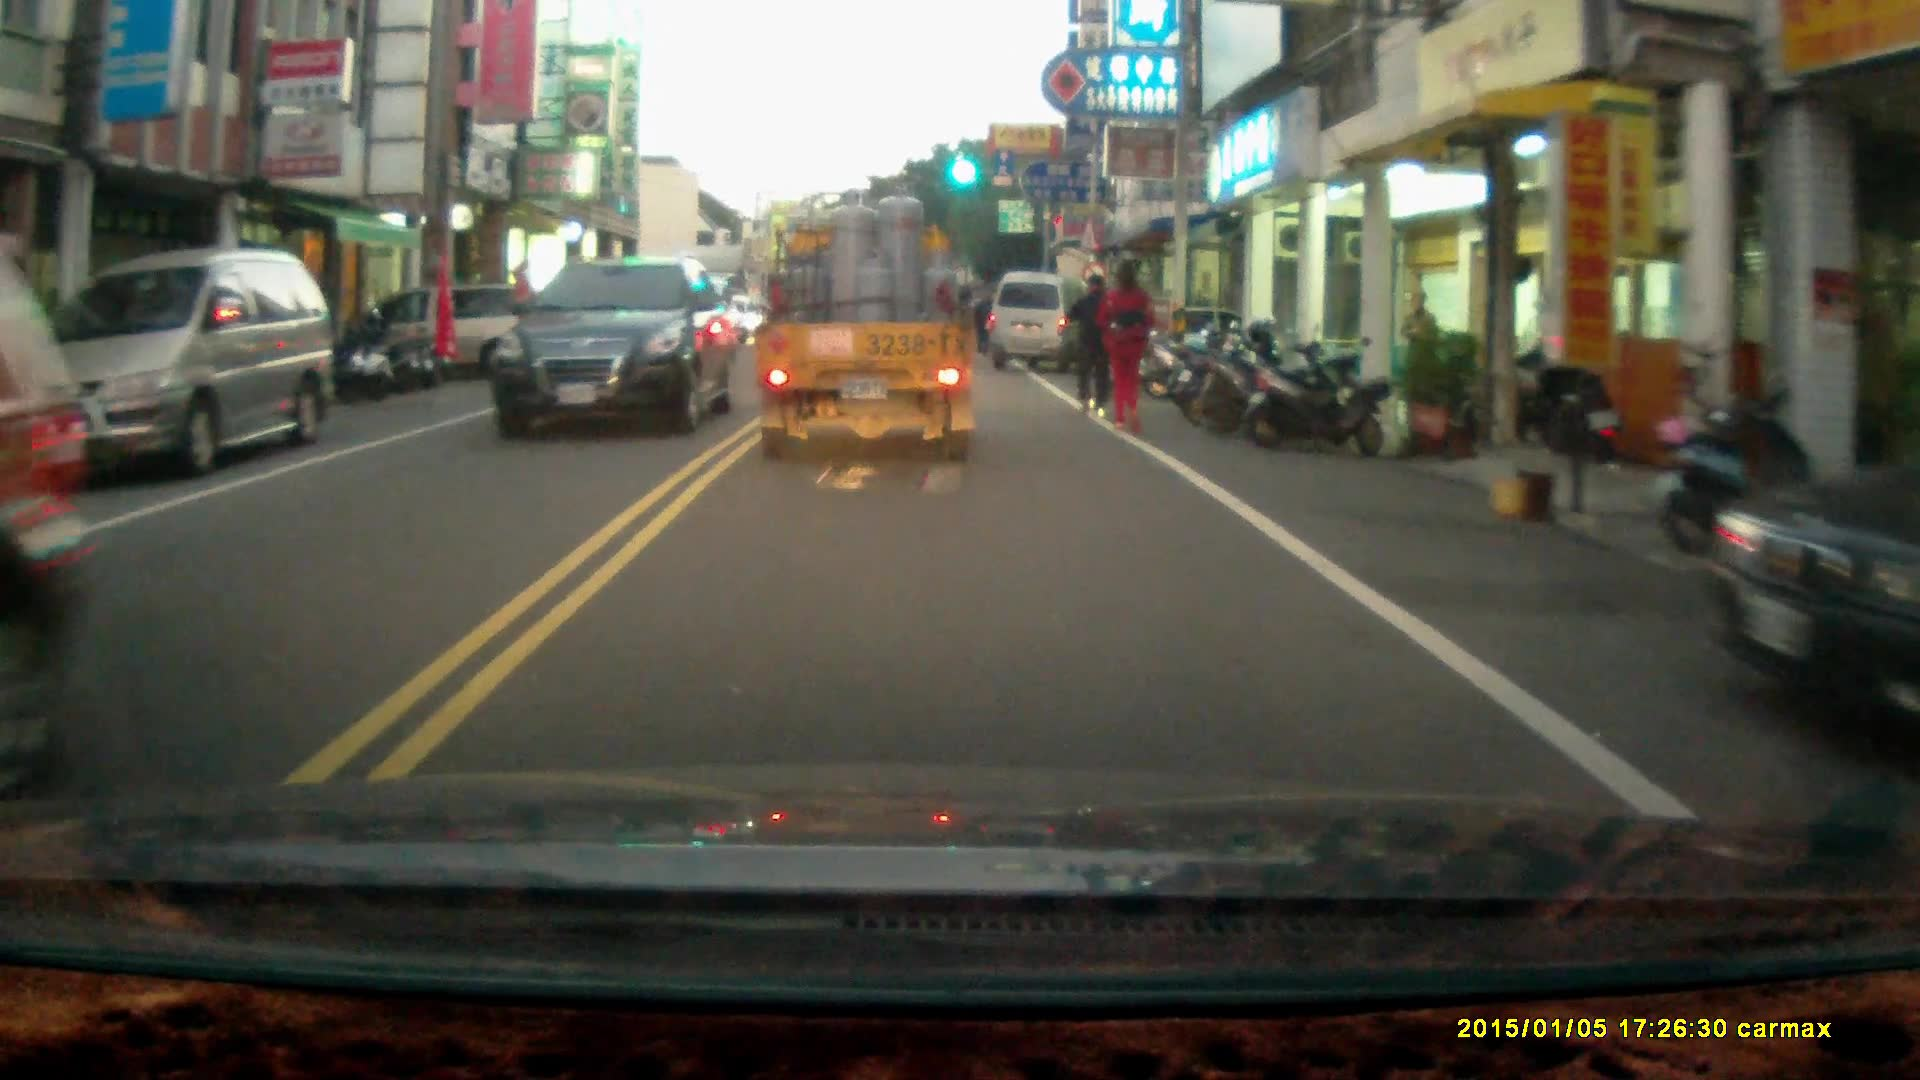pedestrian: (1093, 259, 1156, 429), (1067, 272, 1116, 419), (1397, 286, 1439, 397)
vehicle: (17, 248, 336, 480), (750, 173, 984, 463), (1705, 458, 1920, 729), (491, 252, 739, 439), (332, 288, 570, 377), (989, 274, 1096, 378)
